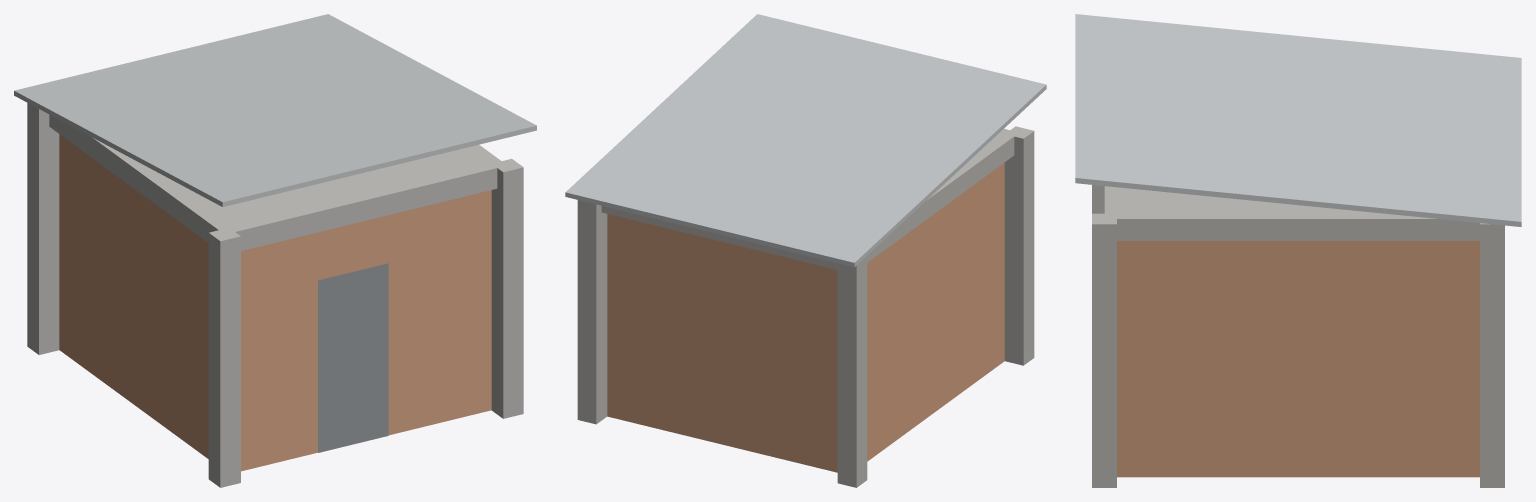
The model's file is fv_house_c.glb.
The picture shows the model from 3 angles, left to right: view 1: azimuth 30°, elevation 25°; view 2: azimuth 150°, elevation 25°; view 3: azimuth 270°, elevation 25°; orthographic projection. The views are drawn at different scales.
Parts seen in each view (by area): view 1: fv_house_c; view 2: fv_house_c; view 3: fv_house_c.
Boxes of the visible parts, x1,y1,x2,y2 form: fv_house_c: (14, 14, 536, 487); fv_house_c: (565, 14, 1046, 487); fv_house_c: (1075, 14, 1521, 487).
Bounding box in the file's own units: 4 × 3.56 × 4.6.
